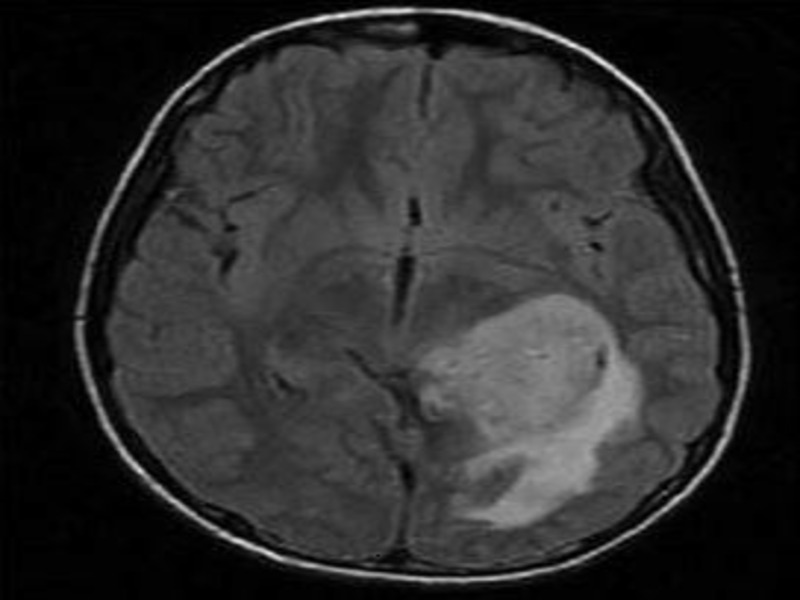tumor: (416, 291, 648, 520)
